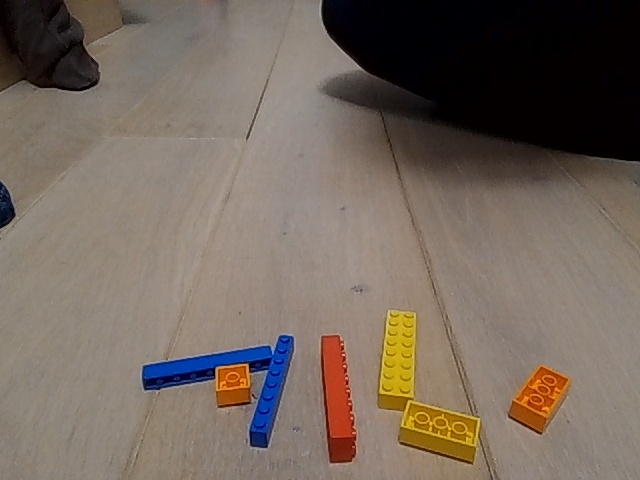lego: (311, 329, 362, 454), (137, 352, 265, 393), (375, 296, 417, 399), (511, 362, 575, 423), (397, 405, 480, 449), (261, 331, 286, 449)
